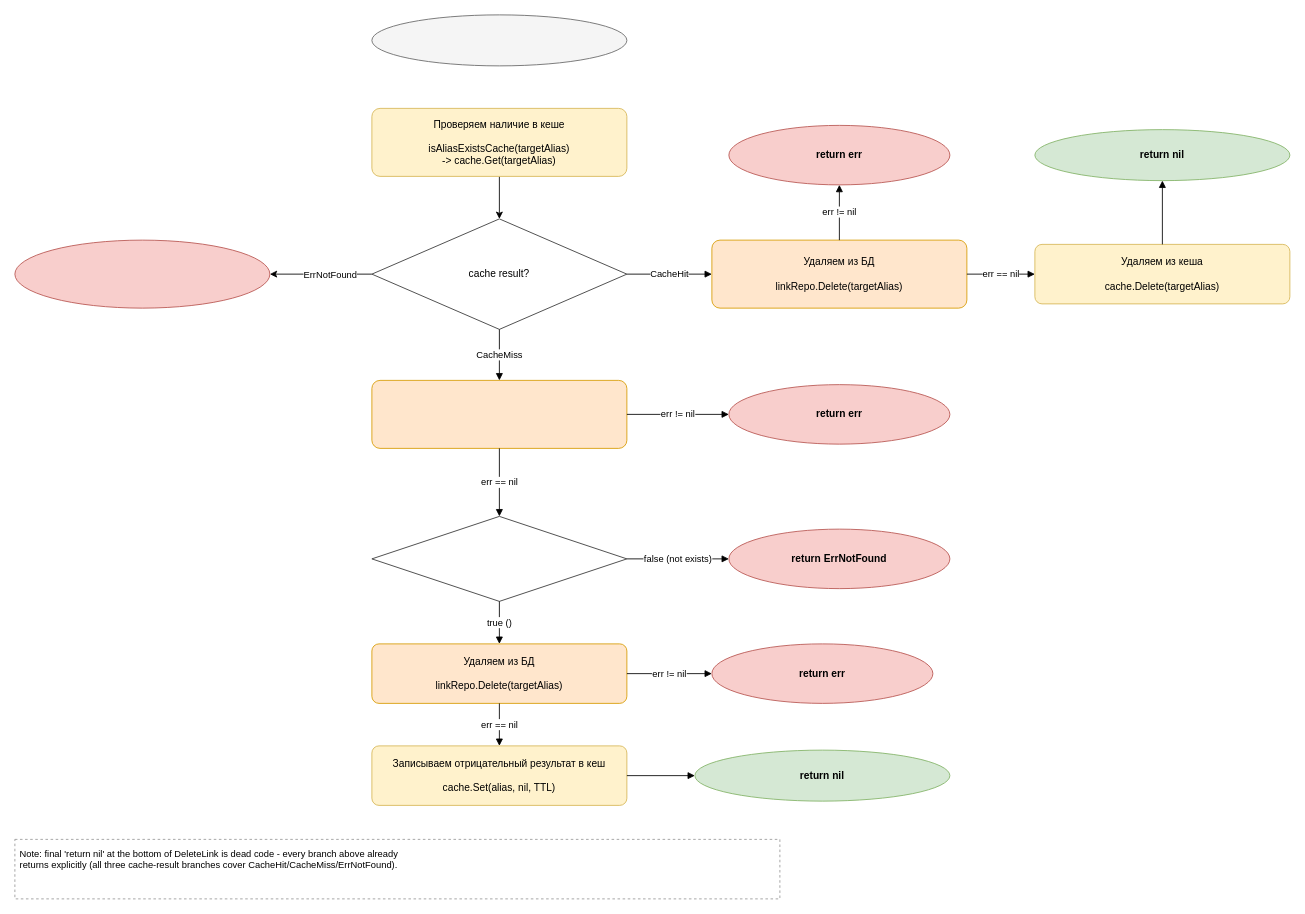
Image size: 1305x914. Some labels were removed from this diagram. The box of each missing label's shape, as (x1, y1, x2, y2) in pixels:
DeleteLink(targetAlias): (371, 14, 627, 66)
ErrNotFound path (cached negative): return ErrNotFound: (14, 239, 270, 308)
Проверяем наличие в БД linkRepo.Exists(targetAlias): (371, 380, 627, 448)
Существует? isExists ?: (371, 516, 627, 601)
